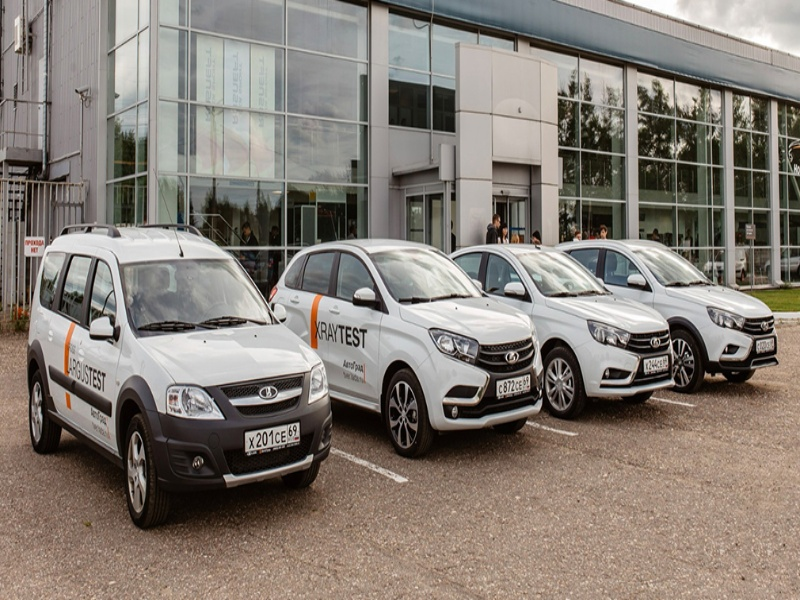car: (26, 223, 332, 526), (265, 239, 545, 457), (448, 244, 674, 417), (557, 239, 779, 392)
person: (241, 222, 260, 260), (487, 214, 500, 244), (498, 223, 510, 244), (599, 225, 608, 239), (573, 231, 580, 240)
plate: (245, 422, 298, 456), (495, 373, 531, 399), (641, 356, 667, 375), (756, 338, 774, 354)
